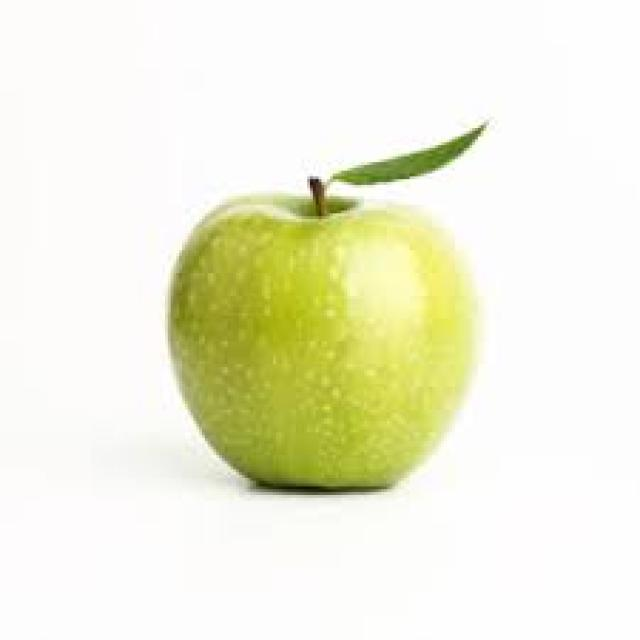50-_ripeness: (154, 172, 482, 505)
